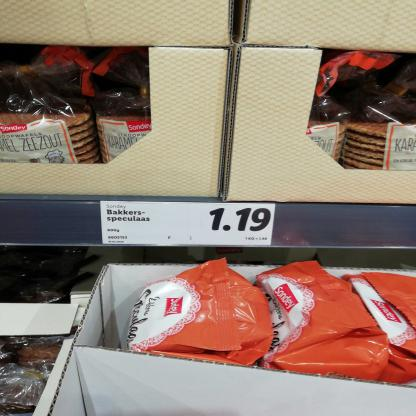prtg: (101, 202, 277, 246)
